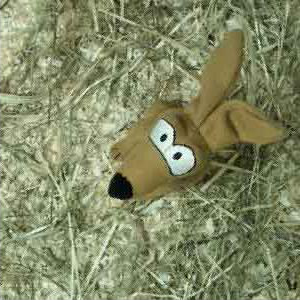dog: (107, 28, 289, 203)
